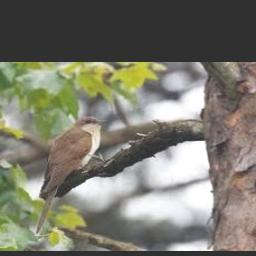Cuckoo: (36, 117, 106, 234)
